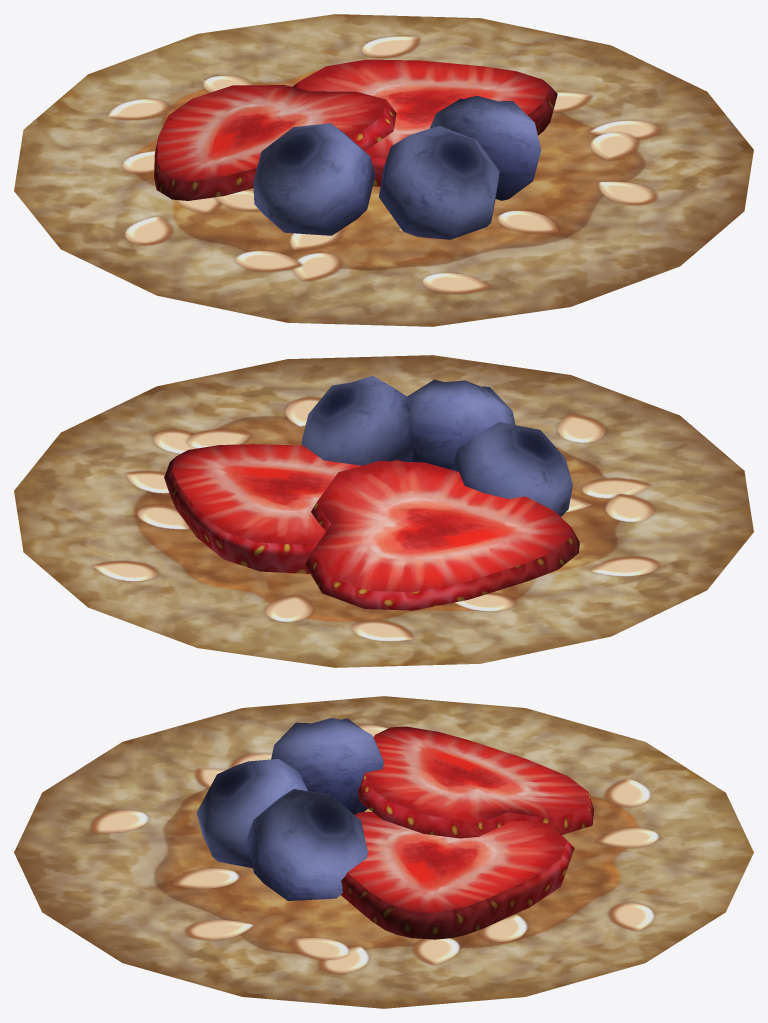
The model's file is Oatmeal_01.fbx.
3 views of the same model, one above another, from view 1: azimuth 30°, elevation 25°; view 2: azimuth 150°, elevation 25°; view 3: azimuth 270°, elevation 25° (orthographic).
Parts seen in each view (by area): view 1: Oatmeal_01; view 2: Oatmeal_01; view 3: Oatmeal_01.
Boxes of the visible parts, box(x1,y1,x2,y2) form: Oatmeal_01: box(14, 14, 753, 326); Oatmeal_01: box(14, 355, 753, 667); Oatmeal_01: box(14, 696, 753, 1008).
Size of the model in its own units: 51.04 by 9.88 by 51.04.
